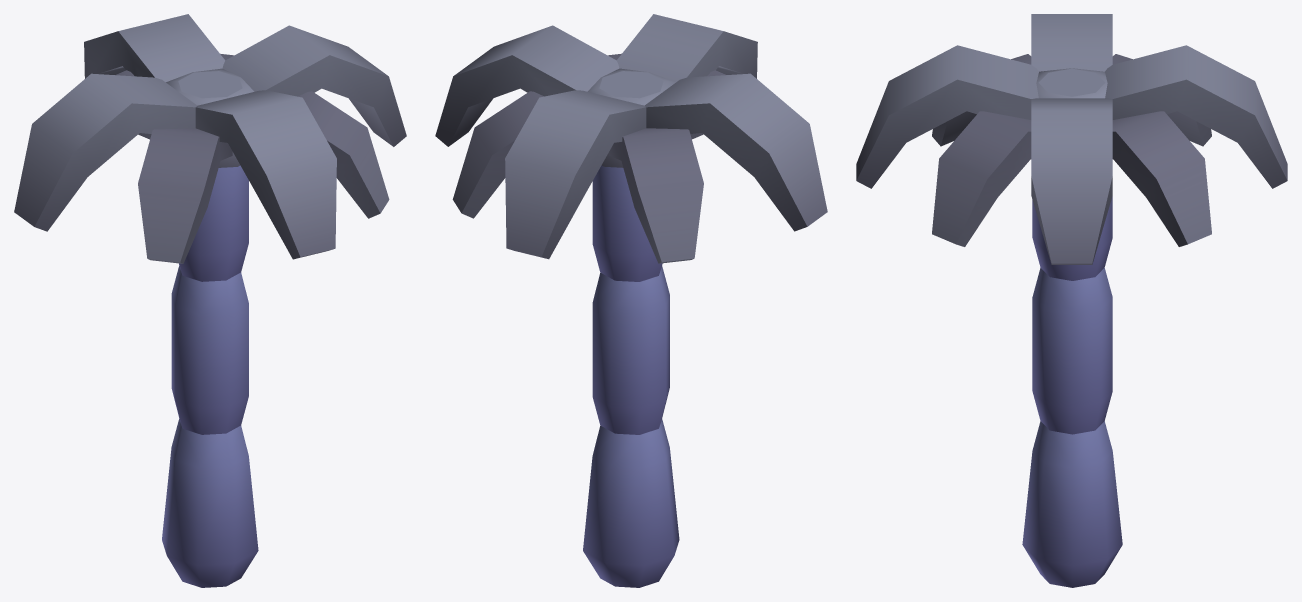
Rendered from palm-detailed-straight.fbx.
3 views of the same model, side by side, from view 1: azimuth 30°, elevation 25°; view 2: azimuth 150°, elevation 25°; view 3: azimuth 270°, elevation 25° (orthographic).
Visible parts, largest first — view 1: palm-detailed-straight; view 2: palm-detailed-straight; view 3: palm-detailed-straight.
Boxes of the visible parts, box(x1,y1,x2,y2) form: palm-detailed-straight: box(14, 14, 406, 587); palm-detailed-straight: box(435, 14, 827, 587); palm-detailed-straight: box(856, 14, 1287, 587).
Size of the model in its own units: 322 by 421 by 322.
